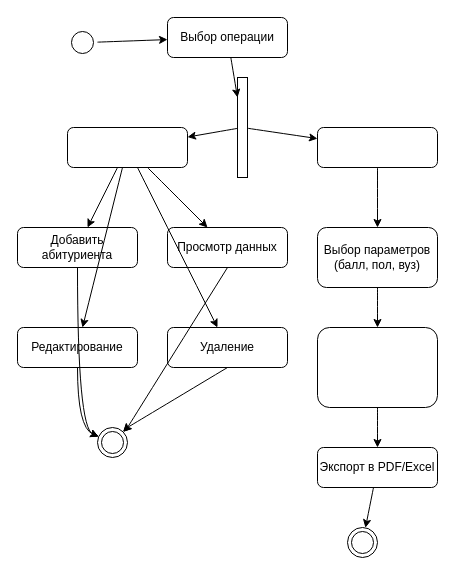
This 455x575 diagram has some shape labels left out. Each missing label, with the centre of its shape:
Статистика: - count(балл>250) - sum(пол=муж) - min/max балл: [377,367]
Управление абитуриентами: [127,147]
Формирование отчетов: [377,147]
